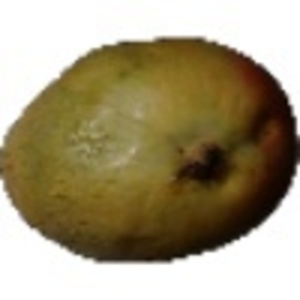mamão: (2, 25, 295, 271)
